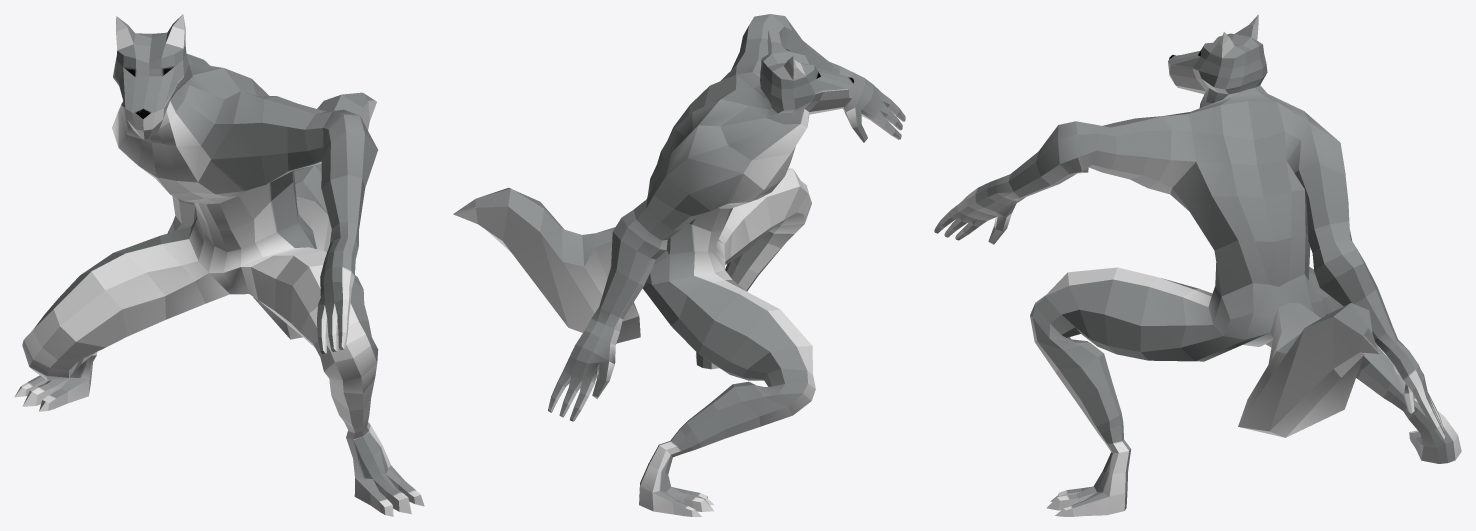
Rendered from WolfAttack(26).obj.
The picture shows the model from 3 angles, left to right: view 1: azimuth 30°, elevation 25°; view 2: azimuth 150°, elevation 25°; view 3: azimuth 270°, elevation 25°; orthographic projection. The views are drawn at different scales.
Parts seen in each view (by area): view 1: Box001; view 2: Box001; view 3: Box001.
Part boxes in pixels (x1=…): Box001: x1=14, y1=14, x2=424, y2=516; Box001: x1=453, y1=14, x2=905, y2=516; Box001: x1=934, y1=14, x2=1461, y2=516.
Bounding box in the file's own units: 96.77 × 113 × 127.
